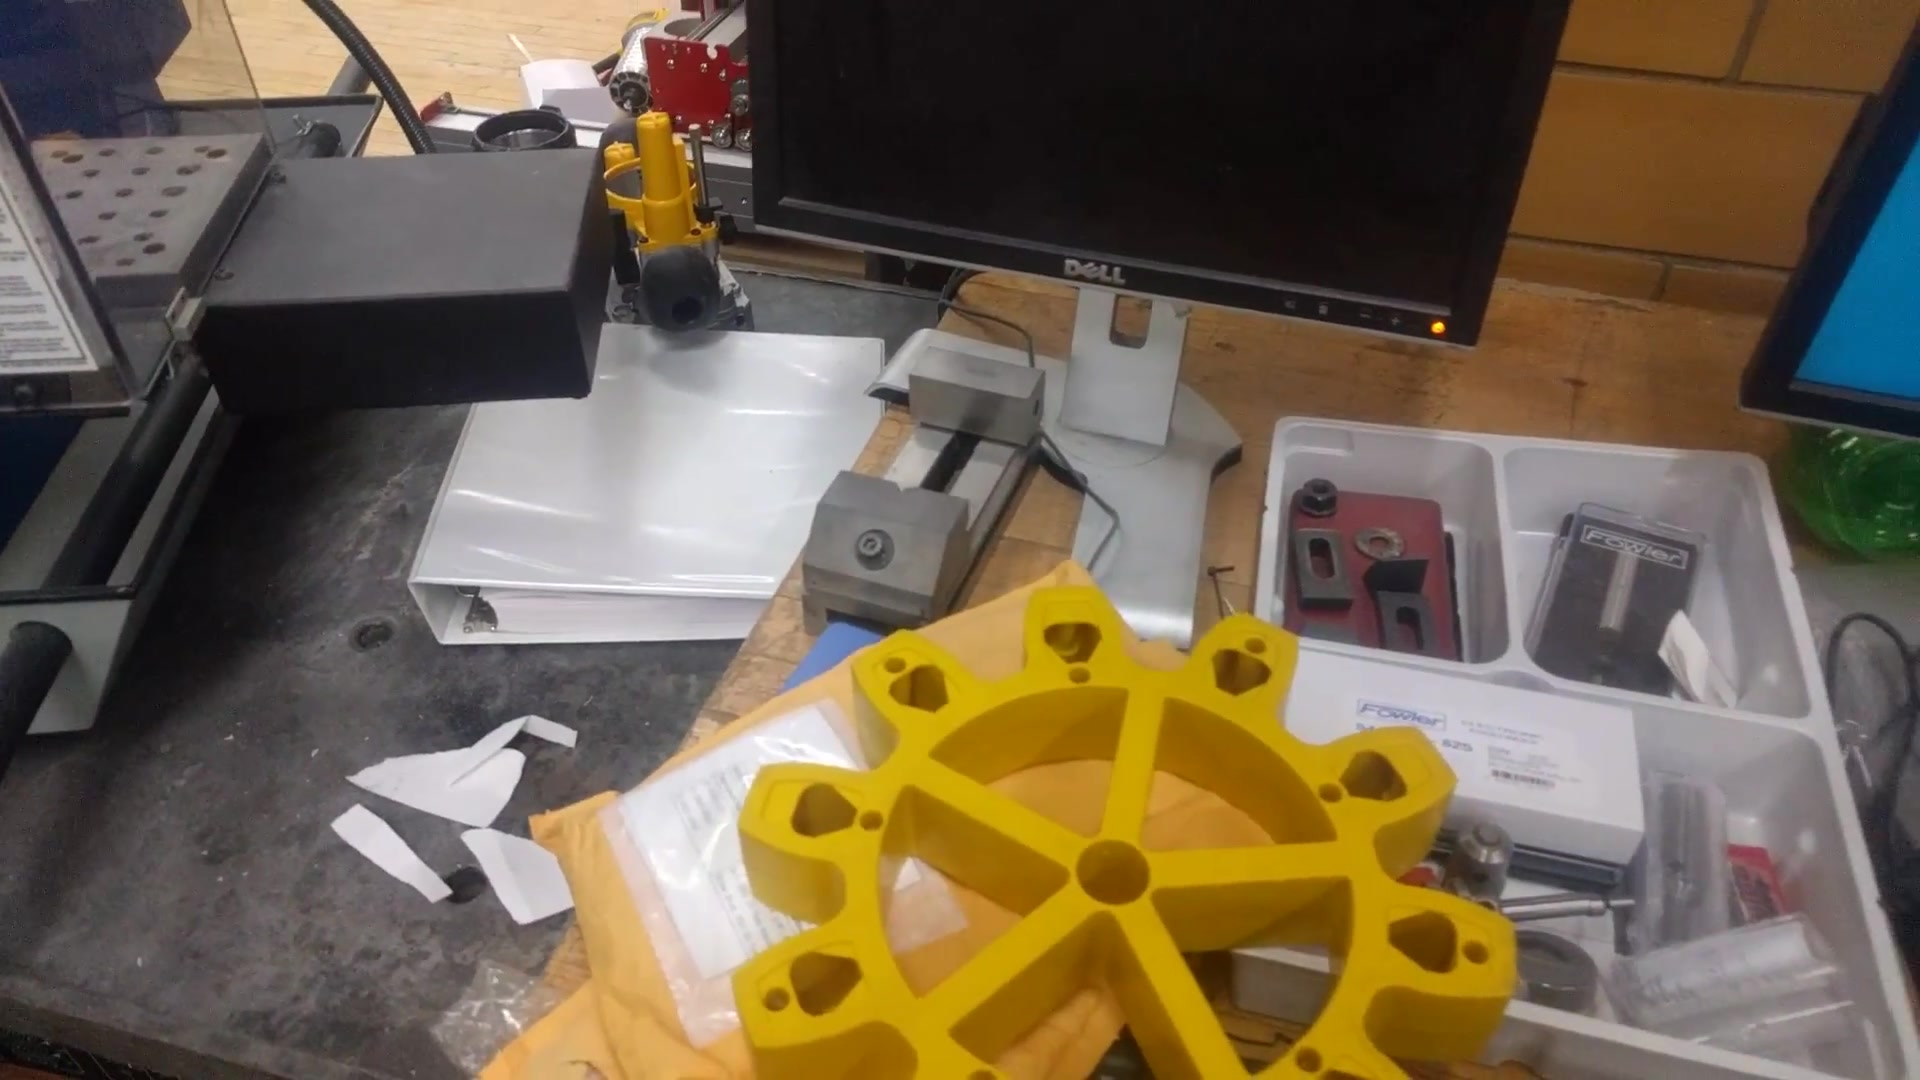gear: (669, 530, 1593, 1080)
